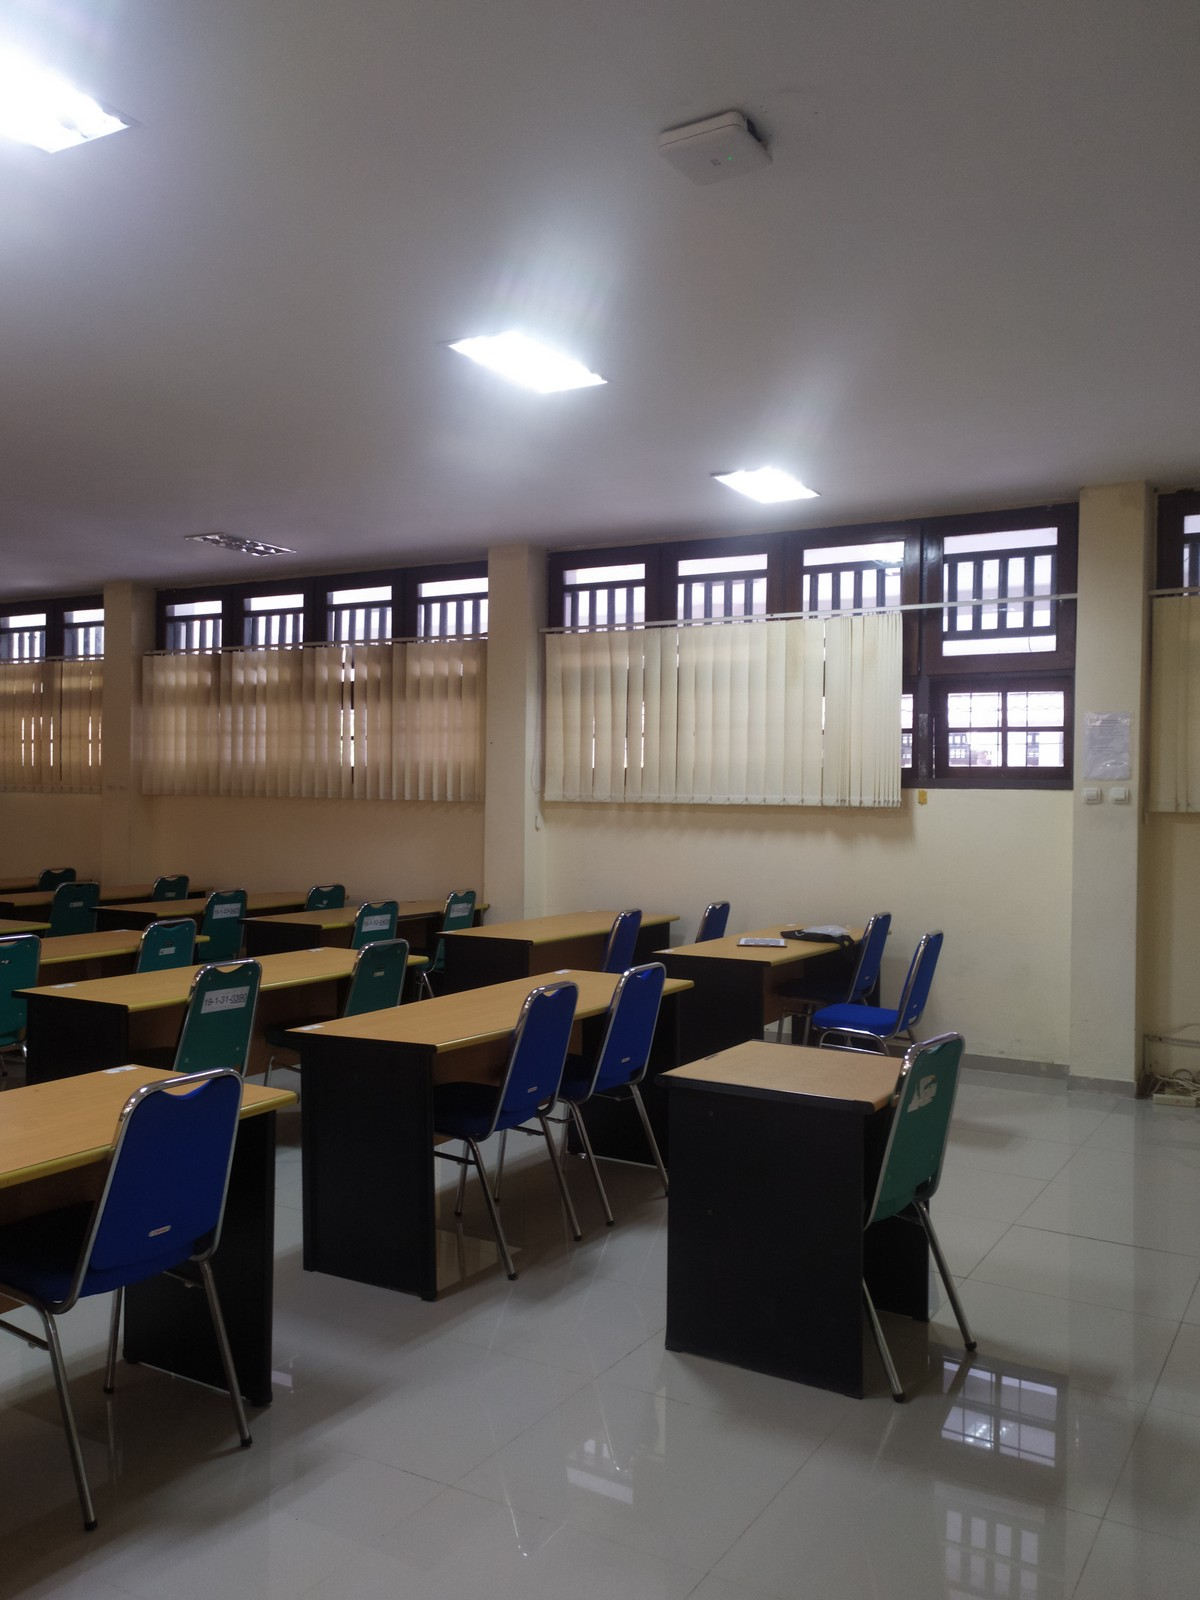concrete column: (1054, 467, 1165, 1094), (482, 538, 563, 922), (98, 572, 166, 896)
